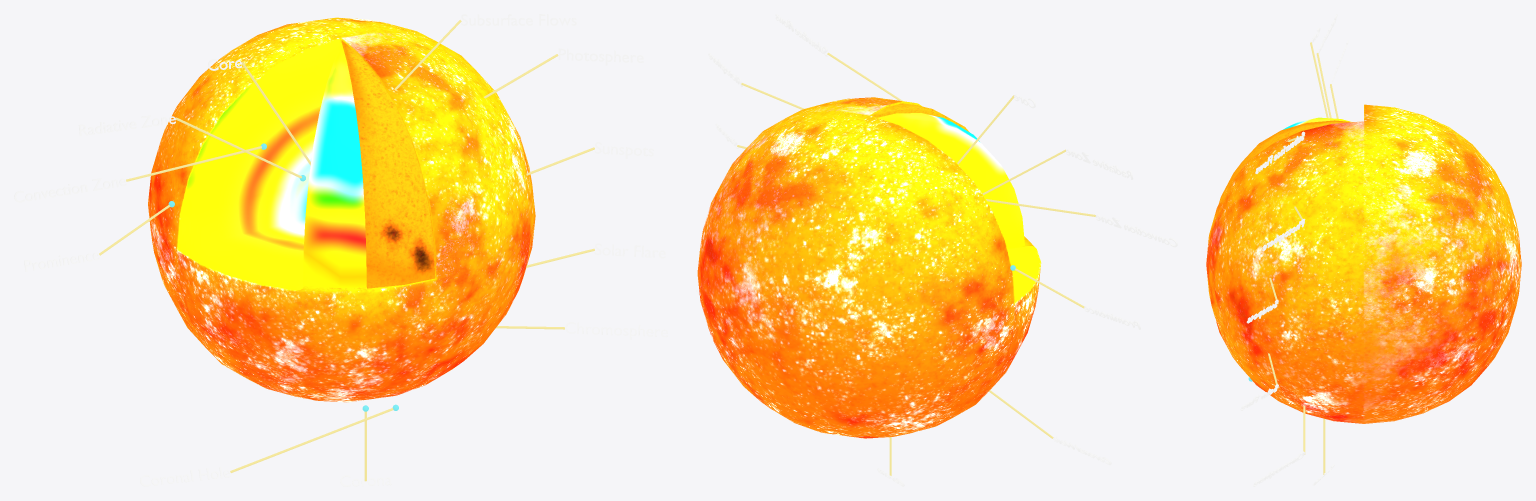
The model's file is sun.glb.
3 renders of one model, left to right at view 1: azimuth 30°, elevation 25°; view 2: azimuth 150°, elevation 25°; view 3: azimuth 270°, elevation 25°, orthographic. The views are drawn at different scales.
Visible parts, largest first — view 1: polySurface6, polySurface3, polySurface5; view 2: polySurface6, polySurface5, polySurface3; view 3: polySurface6, polySurface3.
Part boxes in pixels (<box>): polySurface6: <box>148,17,535,402</box>; polySurface3: <box>341,40,435,288</box>; polySurface5: <box>303,43,366,287</box>; polySurface6: <box>697,97,1041,438</box>; polySurface5: <box>877,113,1024,248</box>; polySurface3: <box>872,103,969,132</box>; polySurface6: <box>1206,104,1521,423</box>; polySurface3: <box>1219,120,1352,202</box>.
Size of the model in its own units: 0.4322 by 0.3222 by 0.2378.
4 materials, 1 textured.
